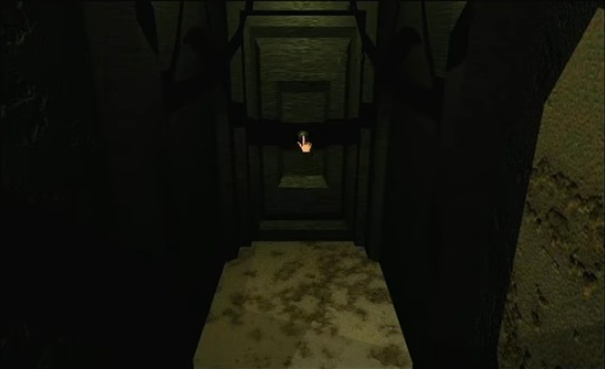Pointer: (294, 133, 316, 155)
